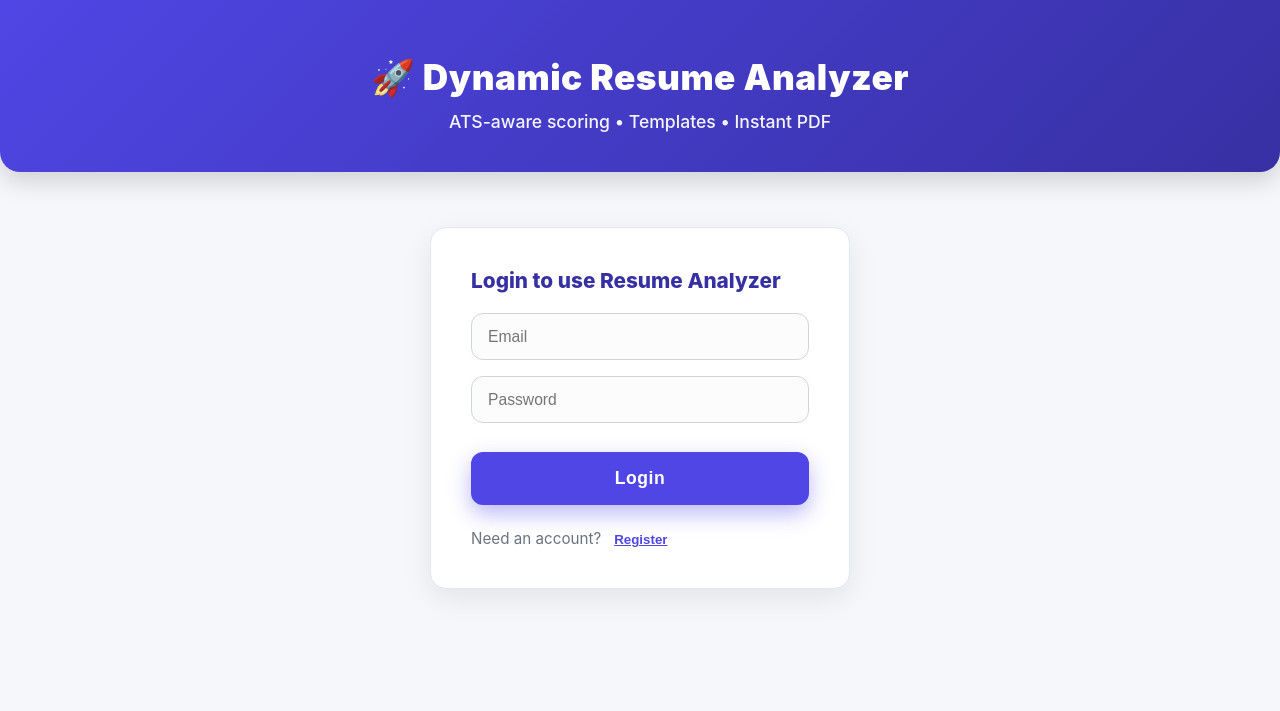
Test: E2E: Authentication Flow › E2E_AUTH_001: Registration Tests › Should validate contact info minimum length
Expected: the header with class "hero" is shown, [0,0,1279,172]
Expected: the heading with class "title-small" shows "Dynamic Resume Analyzer", [371,56,909,98]
Click the button "Register" at (641, 540), box [614,532,667,547]
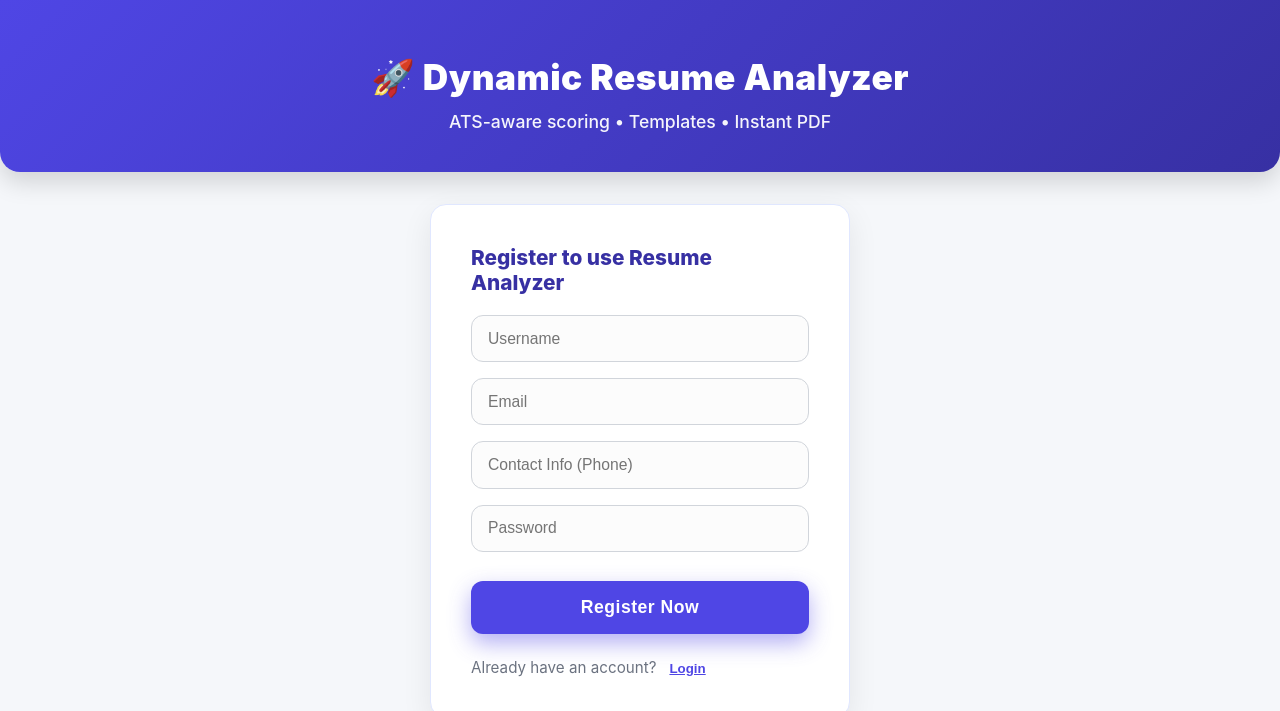
Type "ValidUser" into the field with placeholder "Username" at (640, 339), box [471,315,809,362]
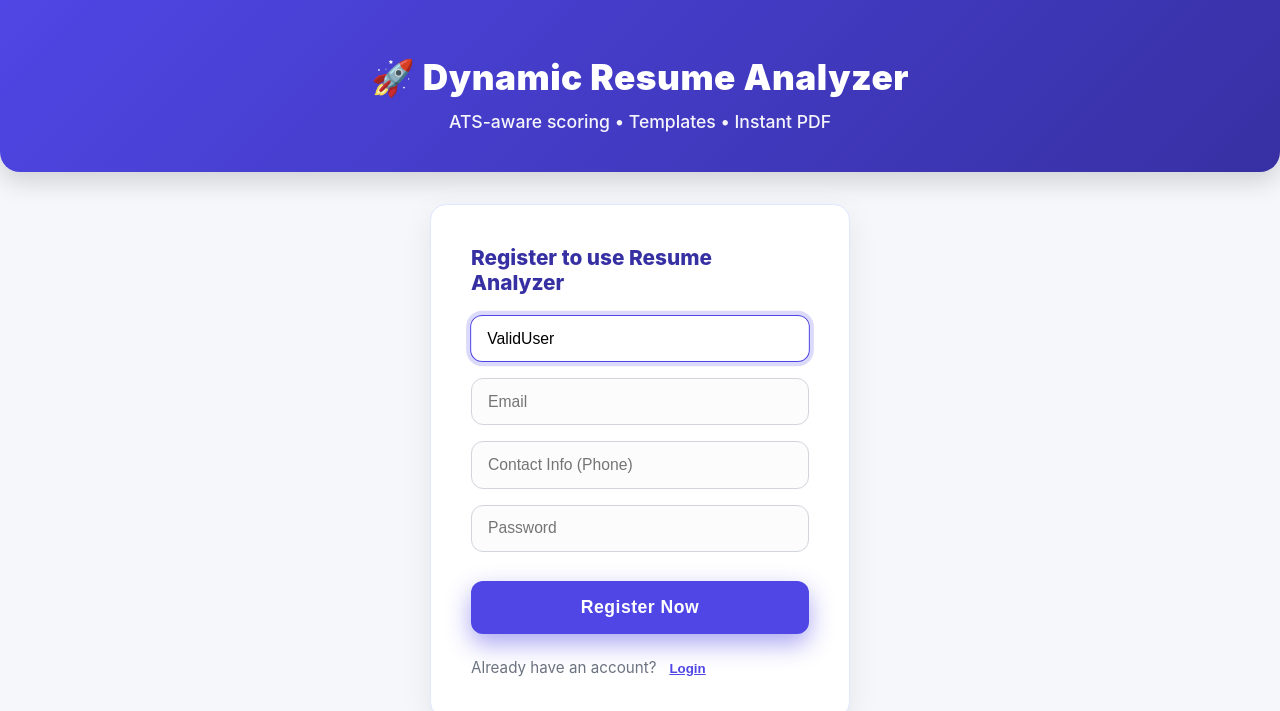
Type "test@example.com" into the field with placeholder "Email" at (640, 402), box [471,378,809,425]
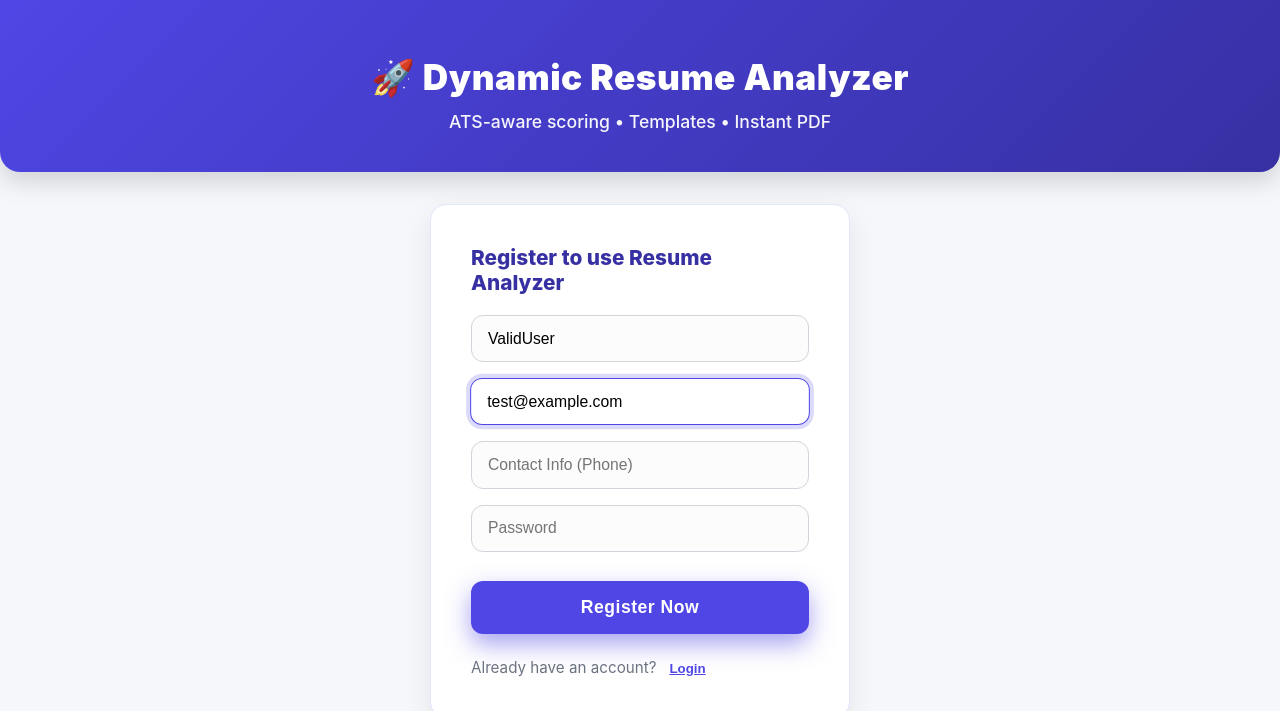
Type "123" into the field with placeholder "Contact Info (Phone)" at (640, 465), box [471,441,809,488]
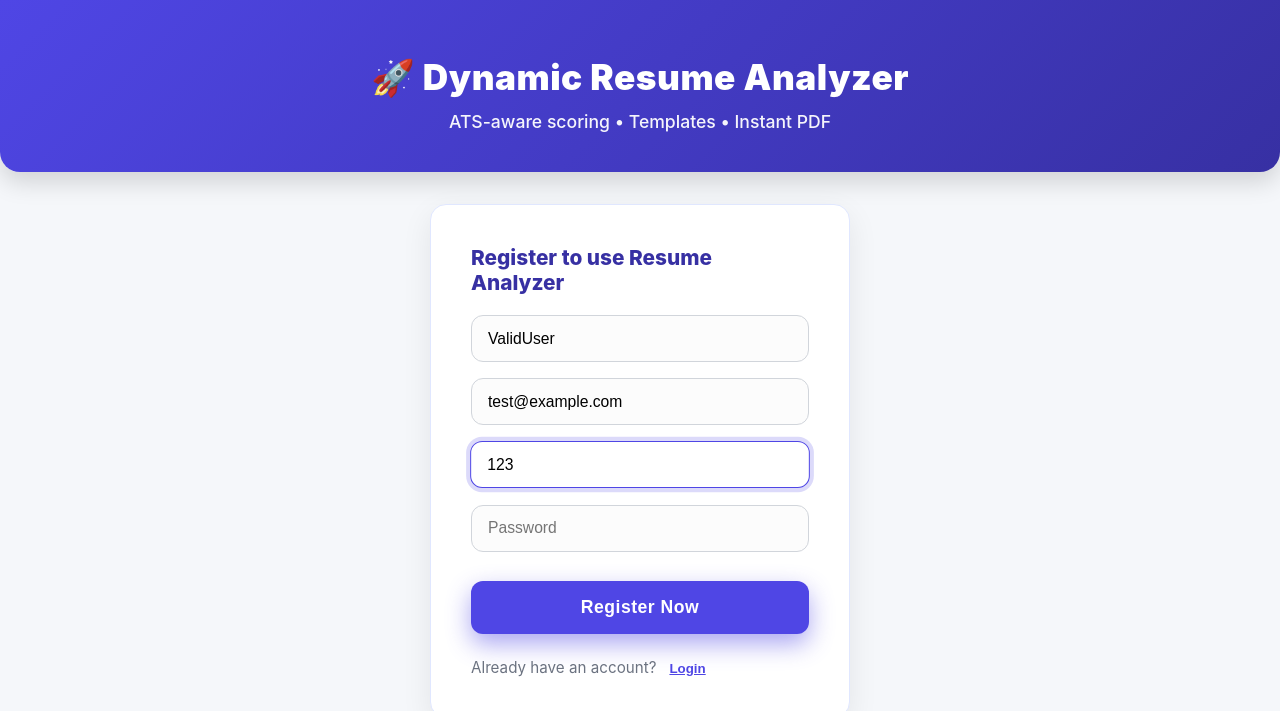
Type "ValidPassword123!" into the password field with placeholder "Password" at (640, 529), box [471,505,809,552]
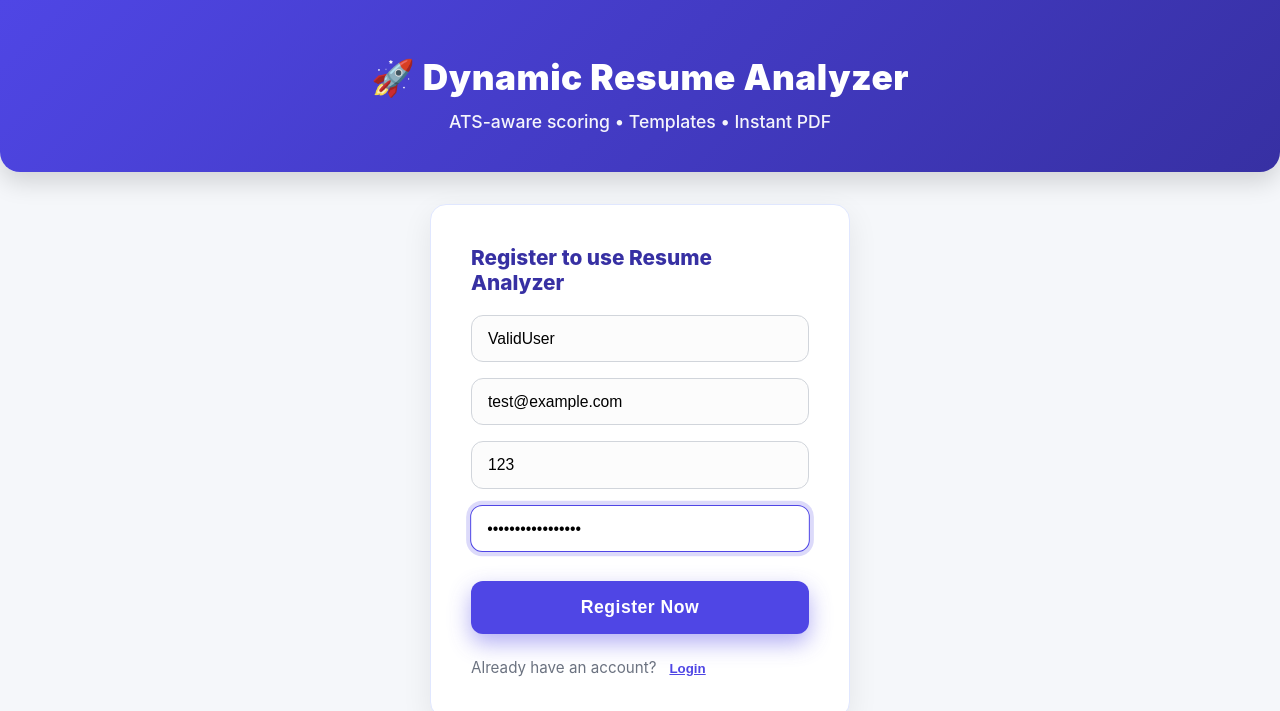
Click the submit button at (640, 608), box [471,581,809,634]
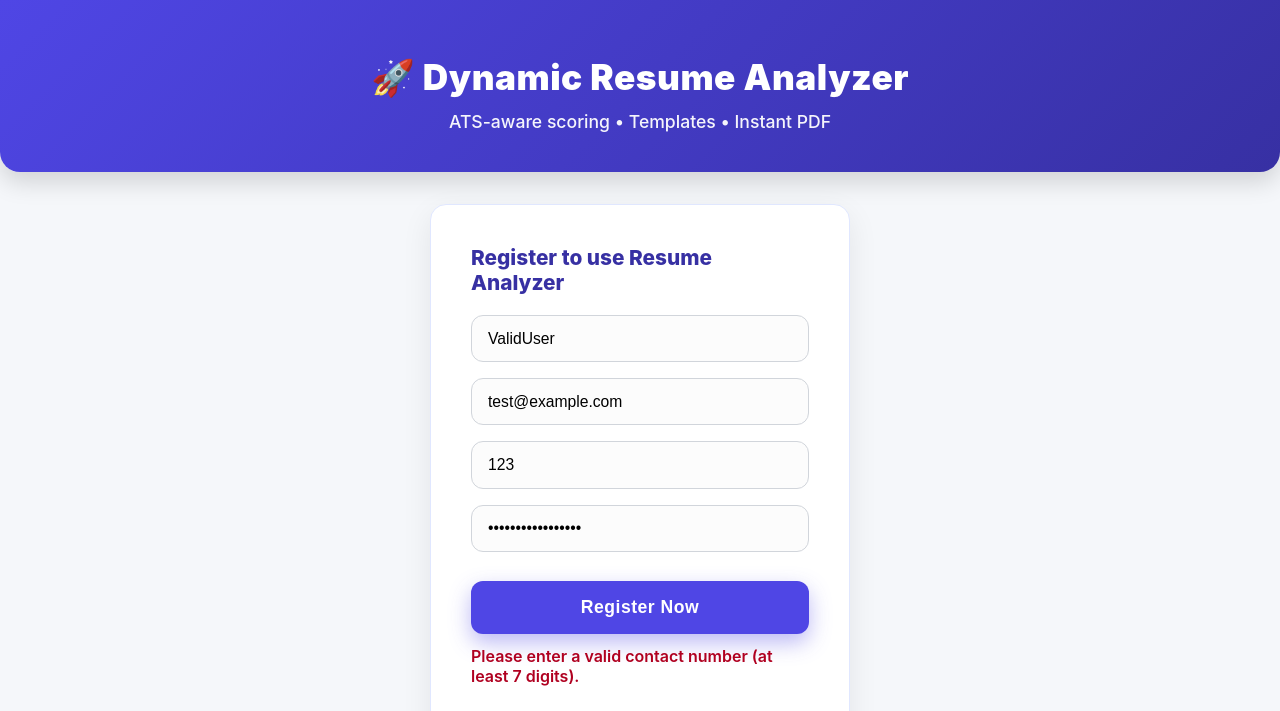
Expected: the text with class "error" shows "contact", [471,646,773,686]
